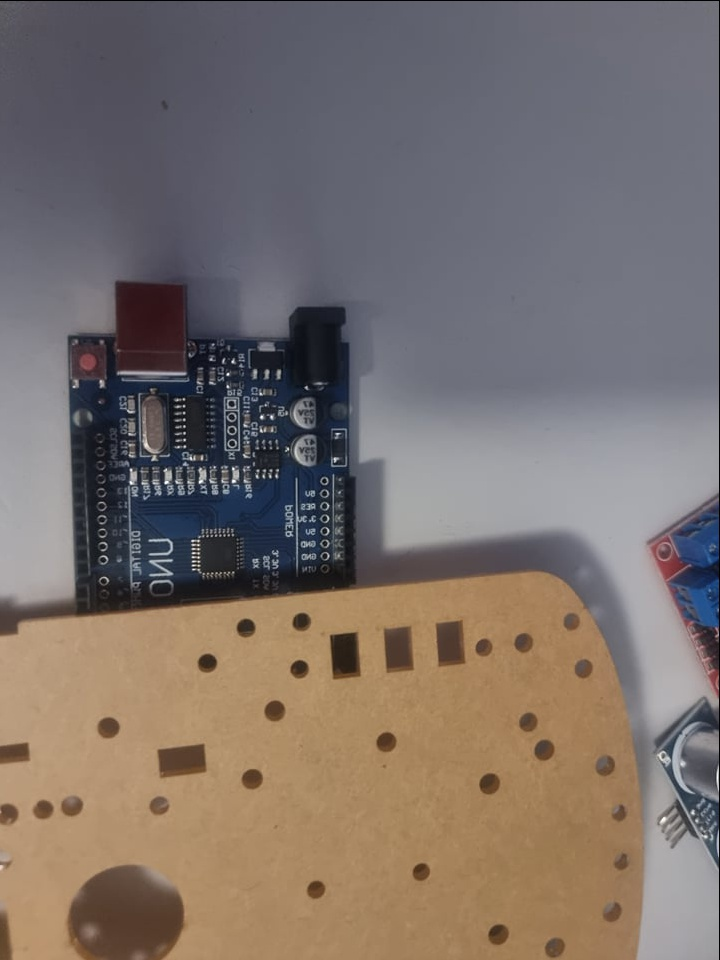UNO R3: (67, 271, 382, 606)
